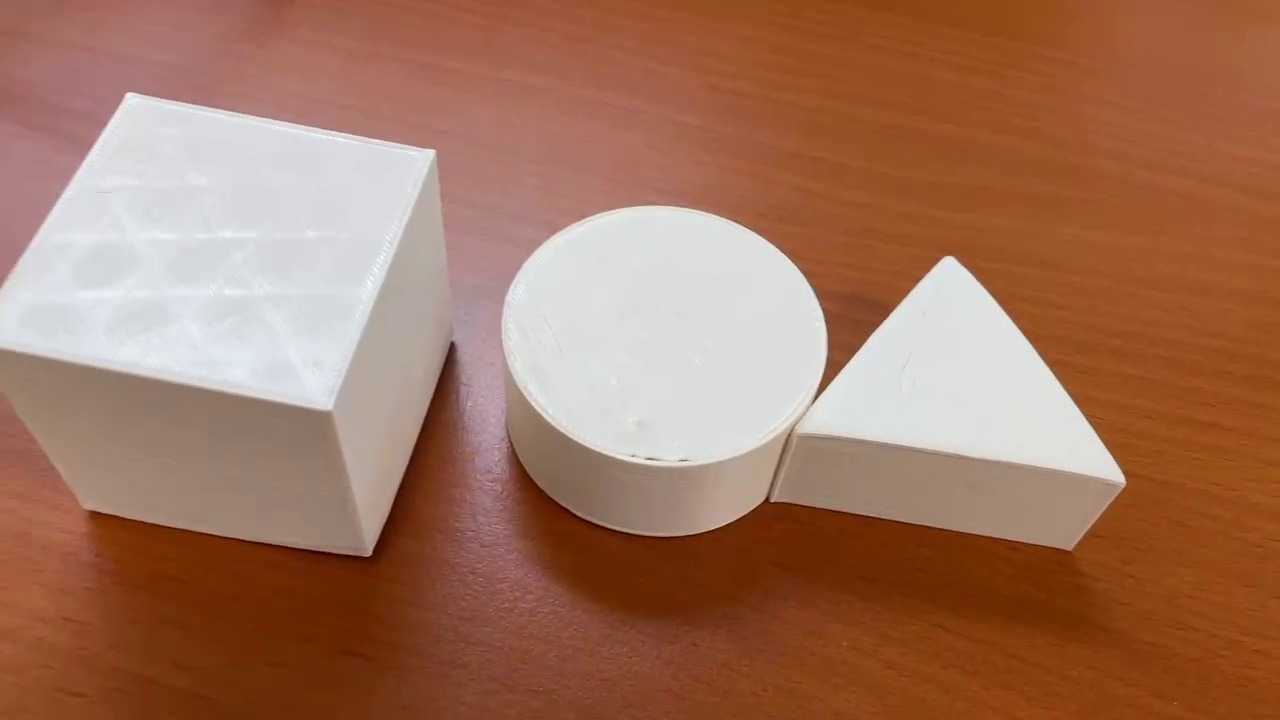Cube: (1, 92, 454, 559)
Cylinder_short: (501, 202, 828, 535)
Triangle_short: (761, 253, 1126, 555)
